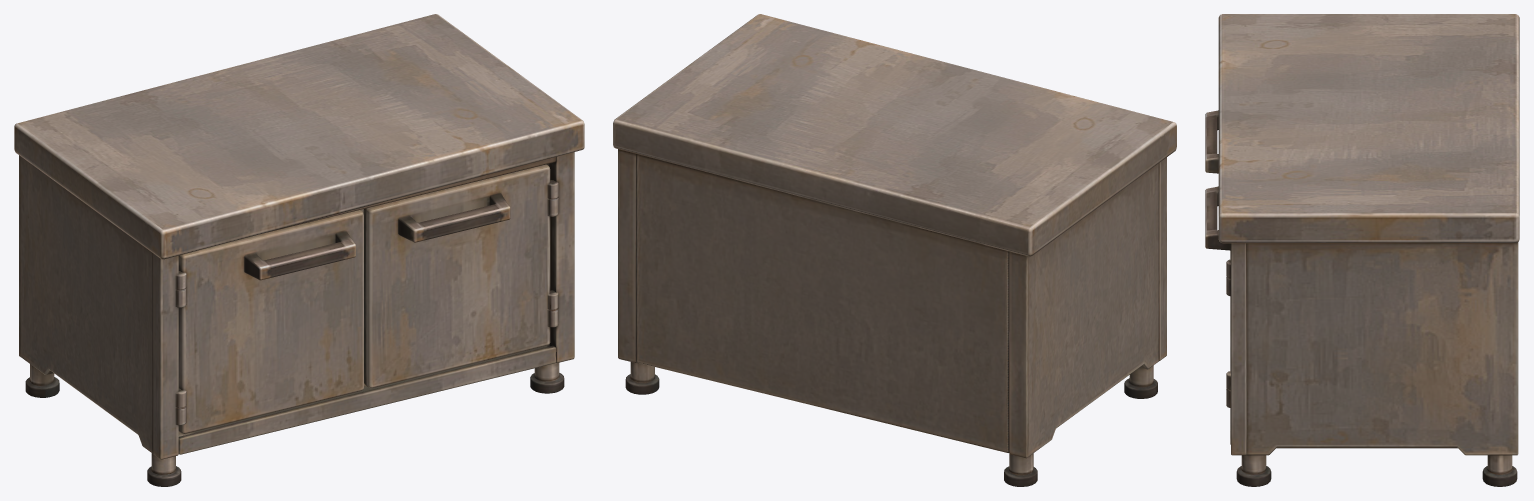
The model's file is P14_prep_work_cabinet_Runtime_1k.glb.
The picture shows the model from 3 angles, left to right: view 1: azimuth 30°, elevation 25°; view 2: azimuth 150°, elevation 25°; view 3: azimuth 270°, elevation 25°; orthographic projection. The views are drawn at different scales.
Parts seen in each view (by area): view 1: tripo_node_7f55c2ac; view 2: tripo_node_7f55c2ac; view 3: tripo_node_7f55c2ac.
Part boxes in pixels (left/top/right/bottom): tripo_node_7f55c2ac: left=14, top=14, right=584, bottom=486; tripo_node_7f55c2ac: left=613, top=14, right=1176, bottom=486; tripo_node_7f55c2ac: left=1205, top=14, right=1519, bottom=486.
Size of the model in its own units: 1.5 by 0.923 by 0.9523.
1 material, 1 textured.
